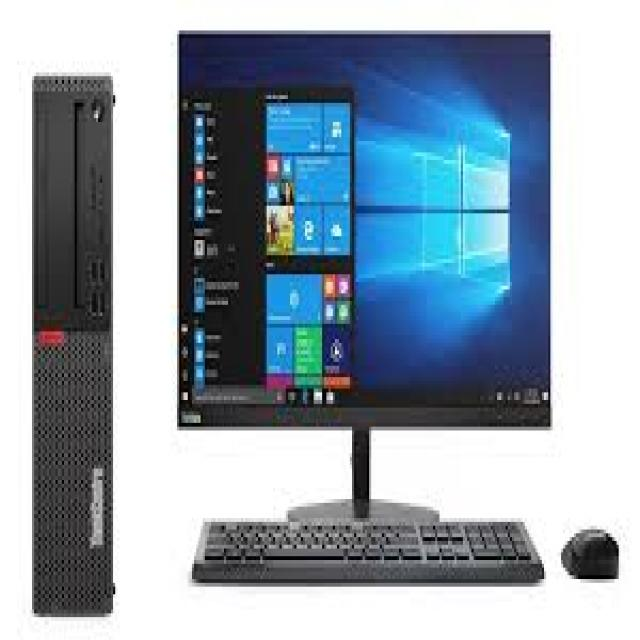Computer: (27, 61, 120, 621)
Monitor: (171, 16, 559, 452)
